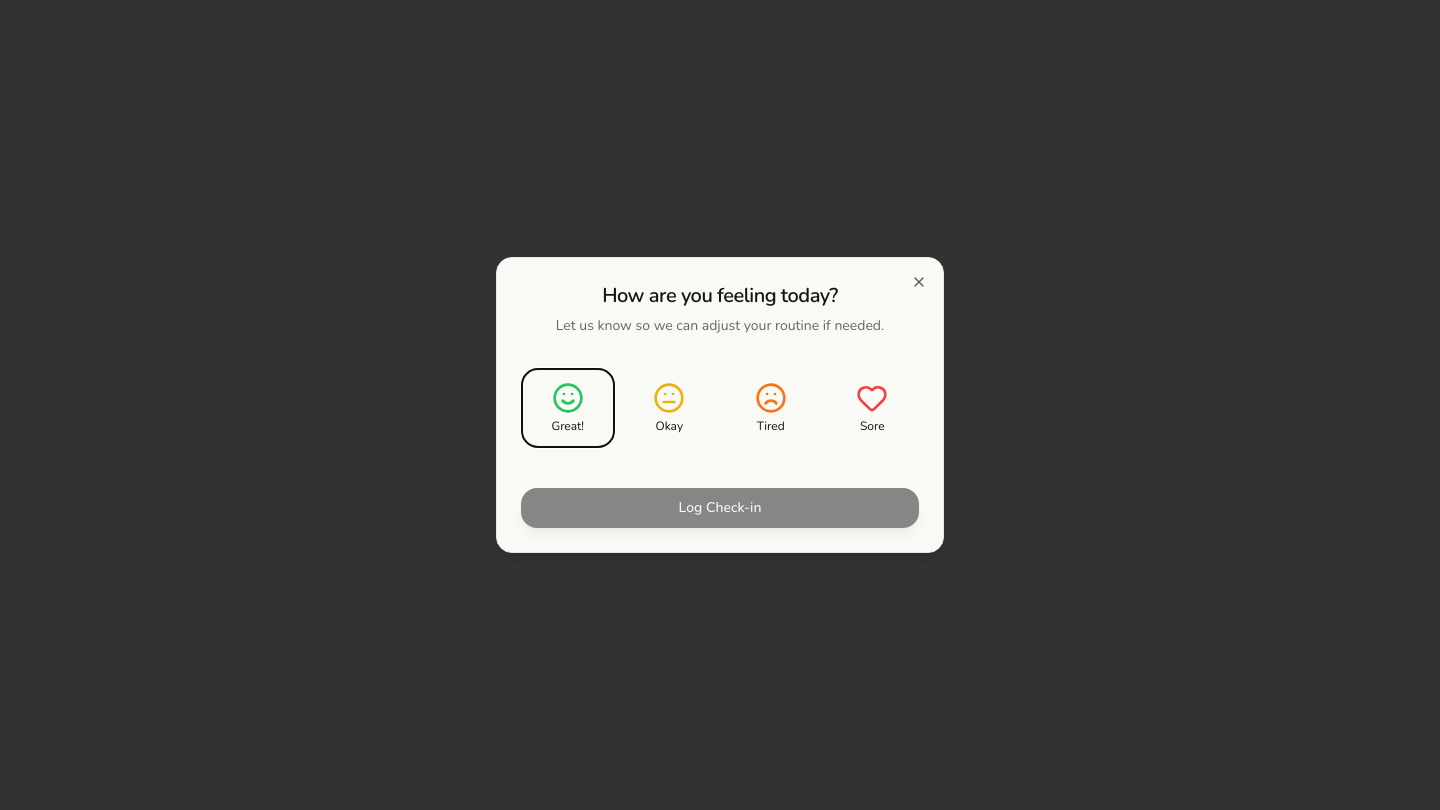
Test: CheckInModal › form submission › enables submit button after sentiment selection
Expected: the dialog is shown, [496,257,944,553]
Click the button "Great!" at (568, 408), box [521,368,614,448]
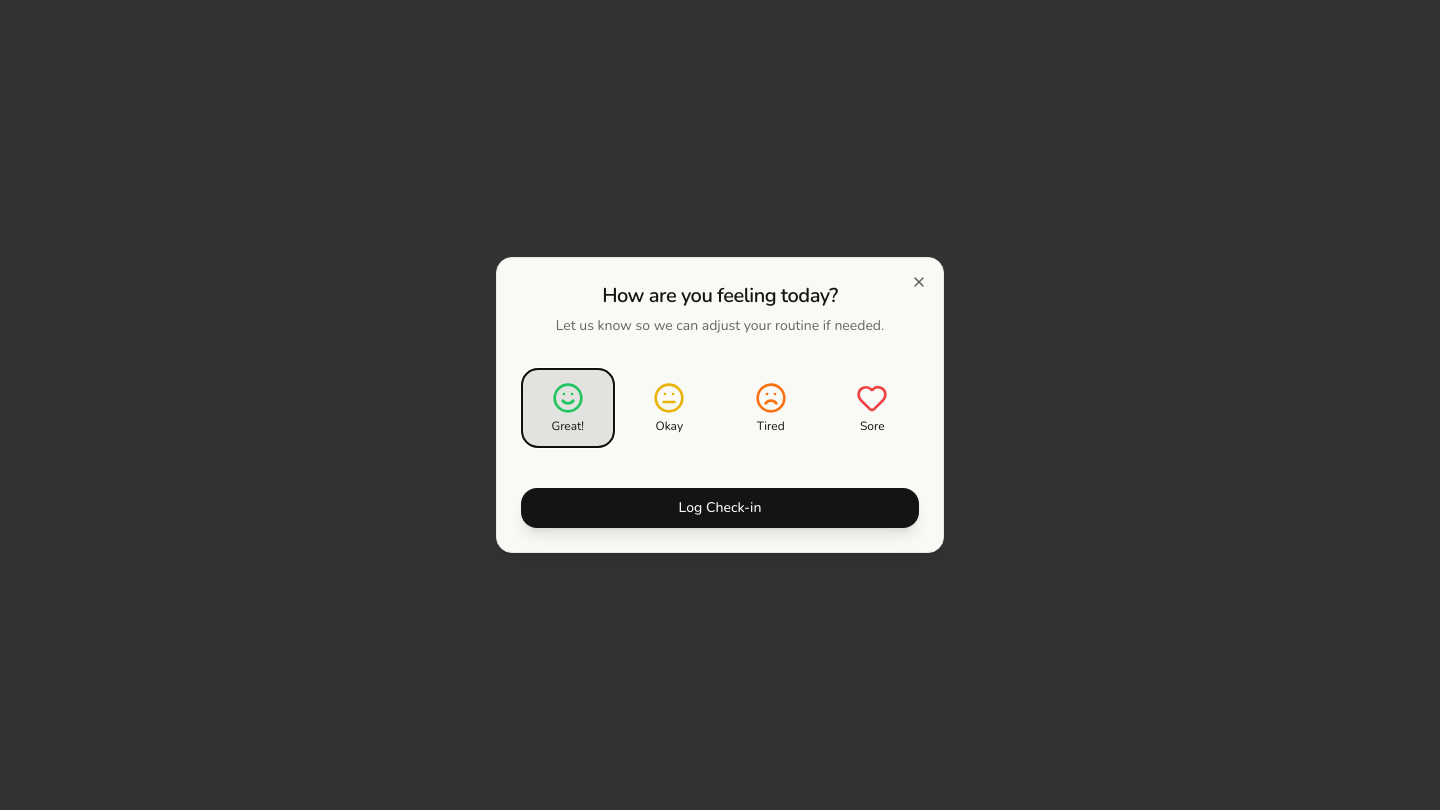
Expected: the button "Log Check-in" is enabled, [521,488,919,528]
